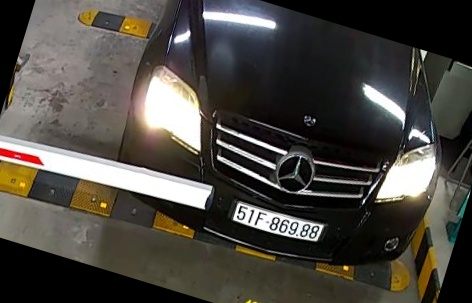plate: (225, 194, 333, 249)
